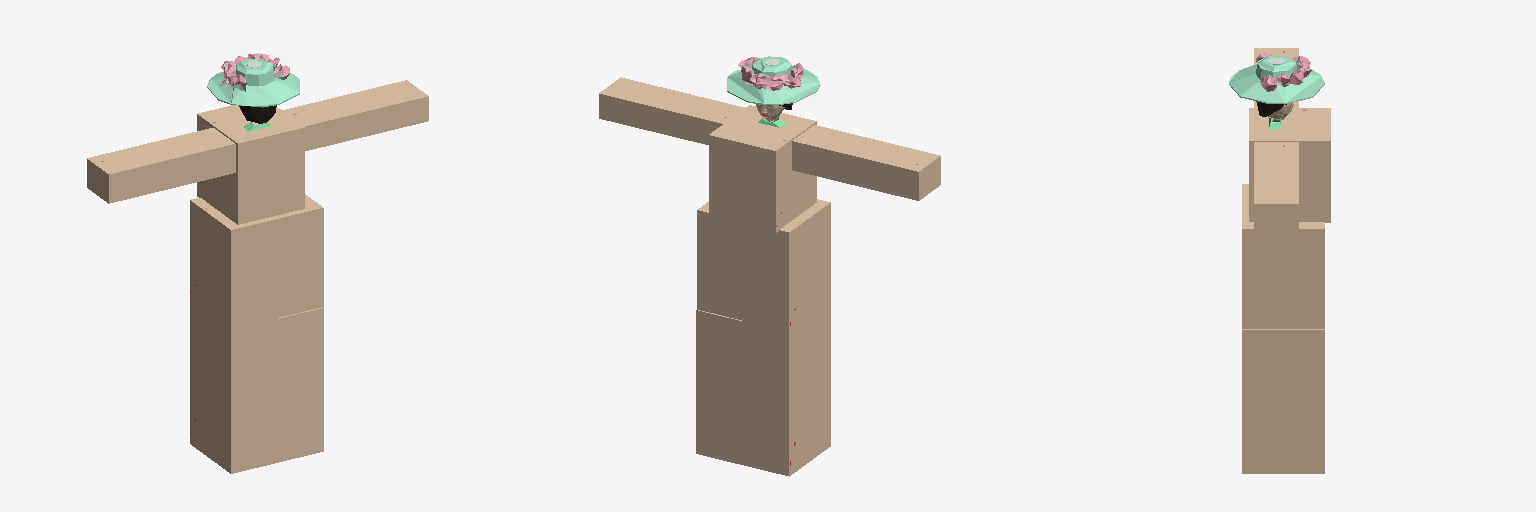
The picture shows the model from 3 angles: view 1: azimuth 30°, elevation 25°; view 2: azimuth 150°, elevation 25°; view 3: azimuth 270°, elevation 25°; orthographic projection.
Visible parts, largest first — view 1: !p_leg2_$bb_leg2.1, !p_b1_$bb_leg2, $bb_b1, !p_b1_$bb_arm2, !p_leg1_$bb_leg1.1, !p_b1_$bb_arm1, !p_b1_$bb_leg1, Cube.010; view 2: !p_leg2_$bb_leg2.1, $bb_b1, !p_b1_$bb_leg2, !p_b1_$bb_arm2, !p_leg1_$bb_leg1.1, !p_b1_$bb_arm1, !p_b1_$bb_leg1, Cube.010; view 3: !p_leg1_$bb_leg1.1, !p_b1_$bb_leg1, $bb_b1, !p_b1_$bb_arm1, Cube.010.
Part boxes in pixels (left/top/right/bottom): !p_leg2_$bb_leg2.1: left=190, top=301, right=277, bottom=473; !p_b1_$bb_leg2: left=190, top=198, right=277, bottom=330; $bb_b1: left=197, top=105, right=304, bottom=224; !p_b1_$bb_arm2: left=87, top=128, right=235, bottom=203; !p_leg1_$bb_leg1.1: left=276, top=307, right=323, bottom=462; !p_b1_$bb_arm1: left=282, top=80, right=428, bottom=150; !p_b1_$bb_leg1: left=275, top=194, right=323, bottom=317; Cube.010: left=207, top=53, right=299, bottom=107; !p_leg2_$bb_leg2.1: left=742, top=303, right=830, bottom=476; $bb_b1: left=709, top=105, right=816, bottom=233; !p_b1_$bb_leg2: left=742, top=199, right=830, bottom=333; !p_b1_$bb_arm2: left=792, top=125, right=940, bottom=200; !p_leg1_$bb_leg1.1: left=696, top=310, right=741, bottom=464; !p_b1_$bb_arm1: left=599, top=77, right=744, bottom=144; !p_b1_$bb_leg1: left=697, top=202, right=742, bottom=319; Cube.010: left=727, top=56, right=819, bottom=104; !p_leg1_$bb_leg1.1: left=1242, top=329, right=1324, bottom=473; !p_b1_$bb_leg1: left=1242, top=207, right=1324, bottom=328; $bb_b1: left=1249, top=108, right=1330, bottom=222; !p_b1_$bb_arm1: left=1254, top=142, right=1298, bottom=228; Cube.010: left=1229, top=52, right=1324, bottom=104.
Size of the model in its own units: 8.02 by 9.26 by 2.22.
6 materials, 5 textured.